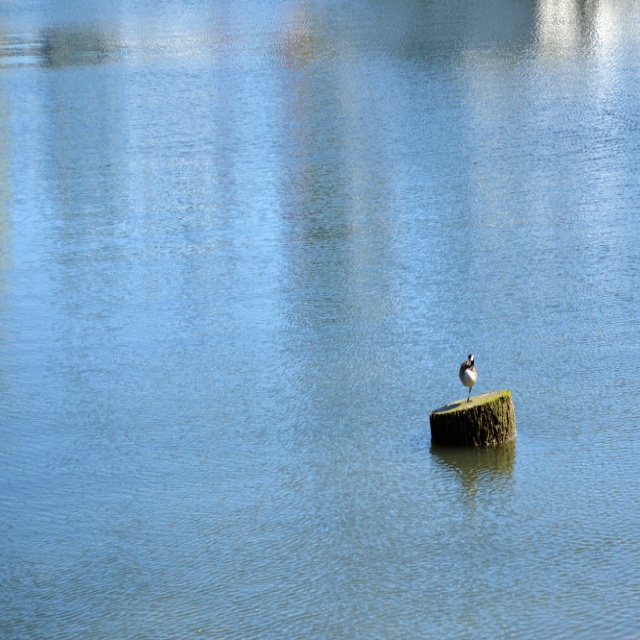Duck: (459, 353, 476, 399)
